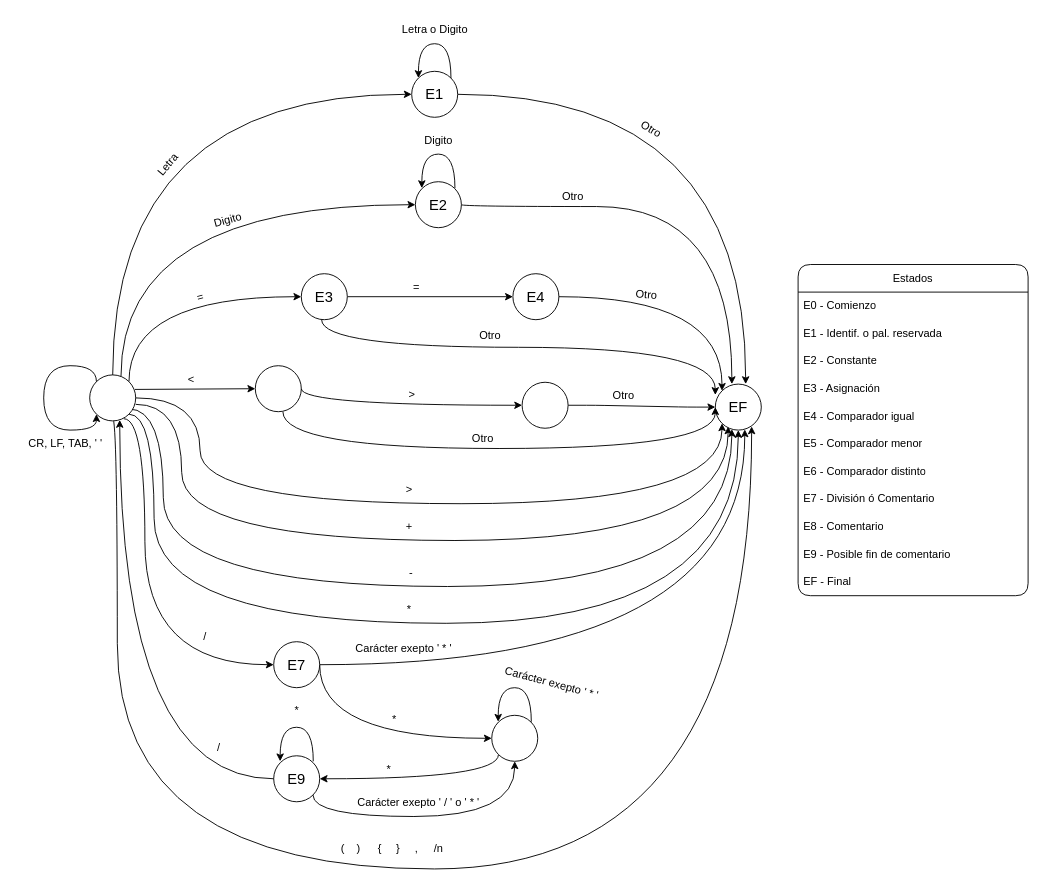
Image size: 1044x885. Some labels were removed from this diagram. Each missing label, with the centre of its shape:
"E0" belongs at pixel 112 397.
"E5" belongs at pixel 277 388.
"E6" belongs at pixel 544 404.
"E8" belongs at pixel 514 737.
